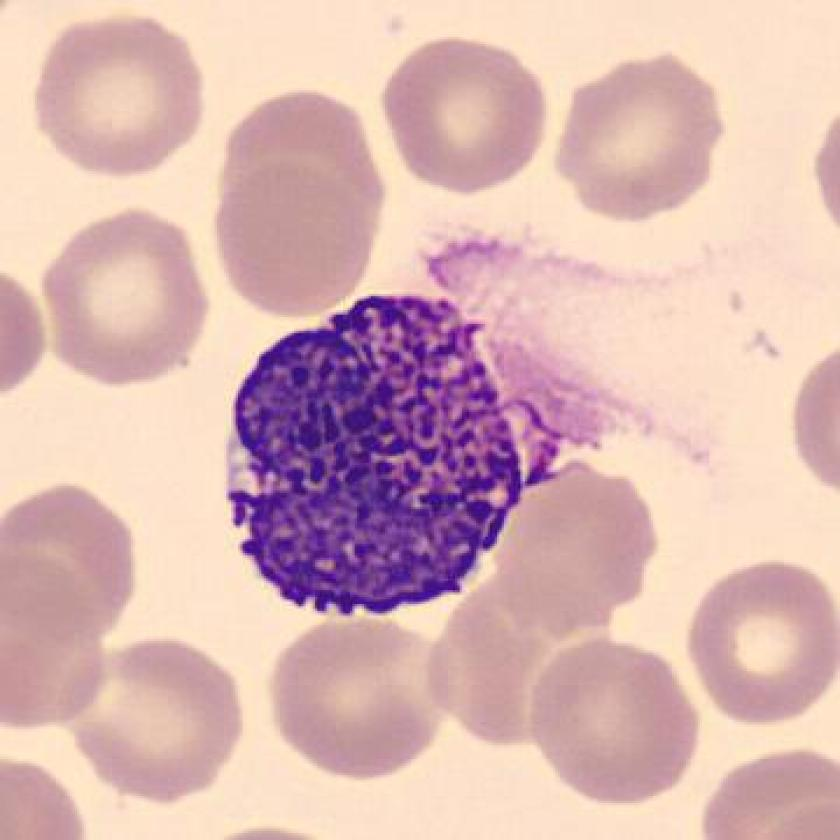basophil: (214, 290, 536, 619)
